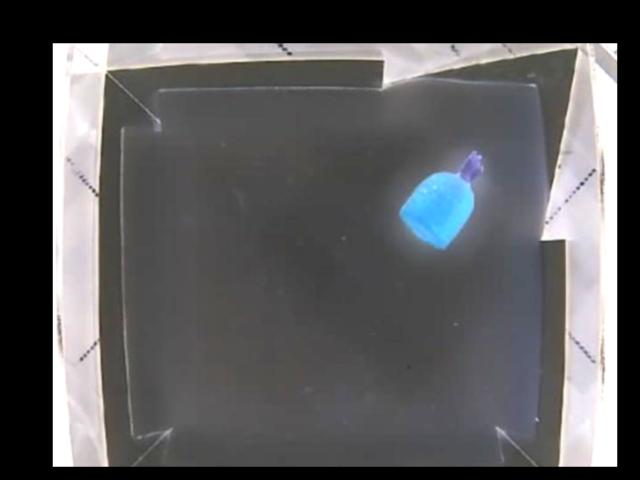Carrot: (401, 147, 483, 248)
